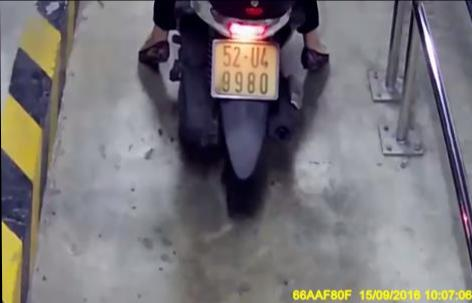LP: (211, 37, 280, 100)
